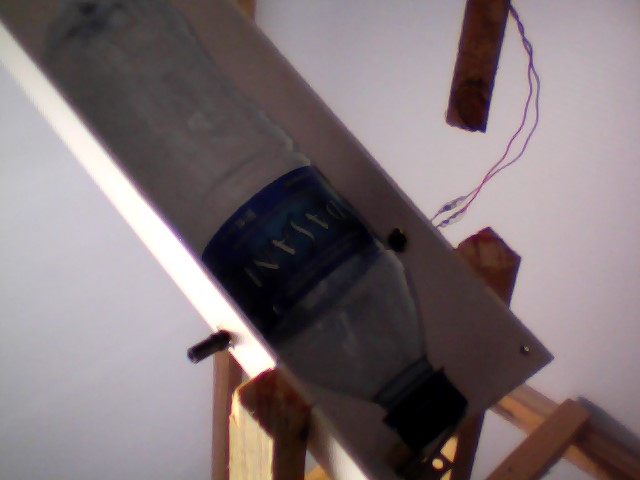plastico: (37, 1, 473, 457)
